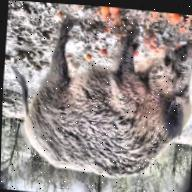boar: (5, 14, 192, 188)
